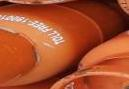cylinder: (1, 1, 129, 89)
